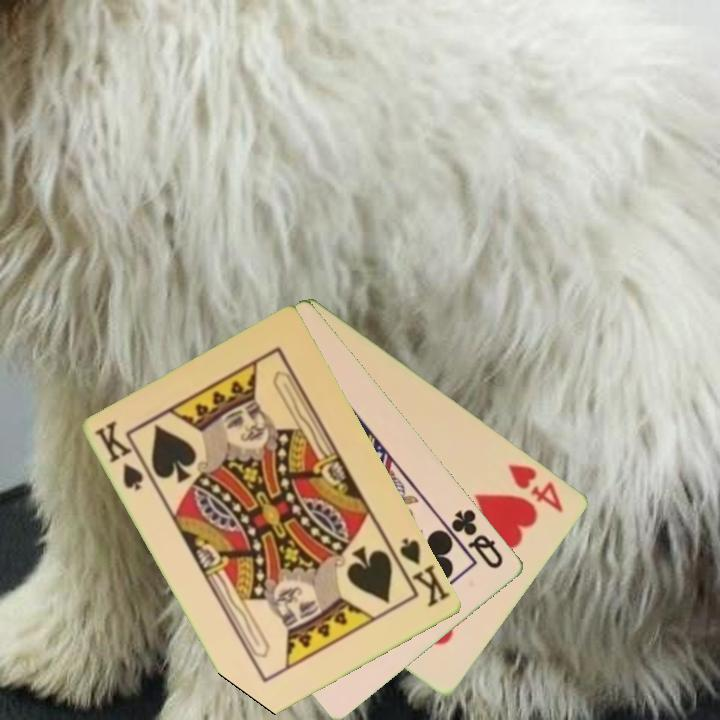4h: (504, 460, 567, 516)
Ks: (396, 534, 454, 610), (91, 417, 148, 494)
Qc: (440, 505, 507, 572)
